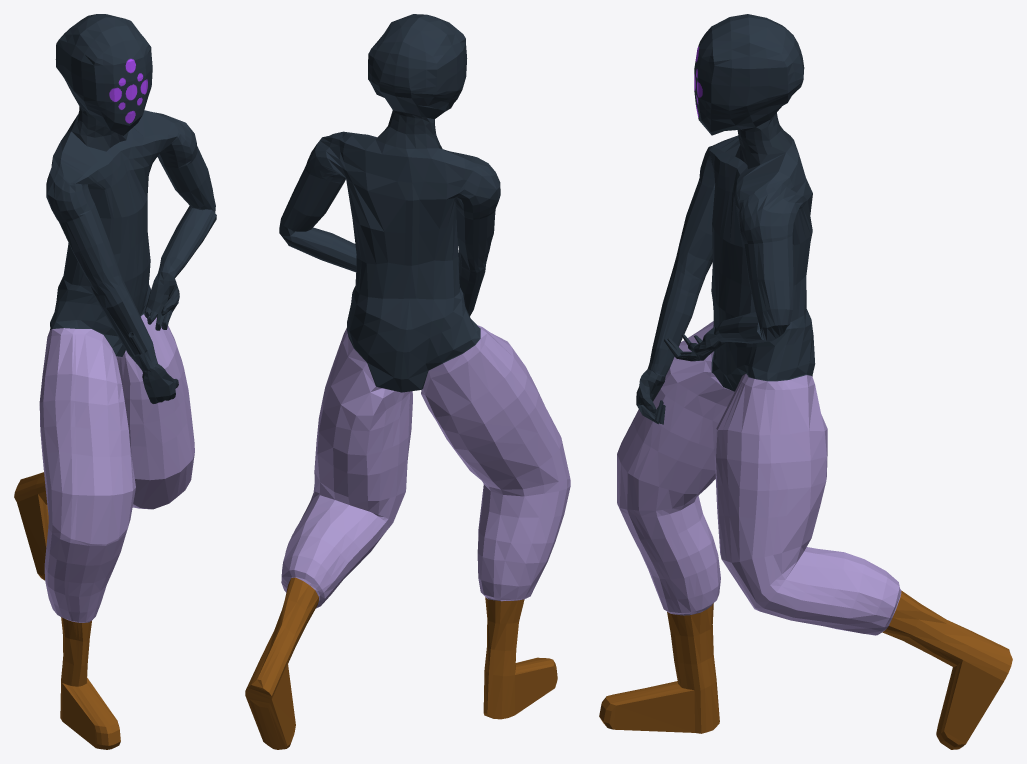
File: Oracle_Run_000017.obj
The picture shows the model from 3 angles, left to right: view 1: azimuth 30°, elevation 25°; view 2: azimuth 150°, elevation 25°; view 3: azimuth 270°, elevation 25°; orthographic projection. The views are drawn at different scales.
Visible parts, largest first — view 1: Cube; view 2: Cube; view 3: Cube.
Part boxes in pixels (left/top/right/bottom): Cube: left=14, top=14, right=216, bottom=749; Cube: left=245, top=14, right=570, bottom=749; Cube: left=599, top=14, right=1012, bottom=749.
Bounding box in the file's own units: 1.28 × 3.76 × 1.91.
